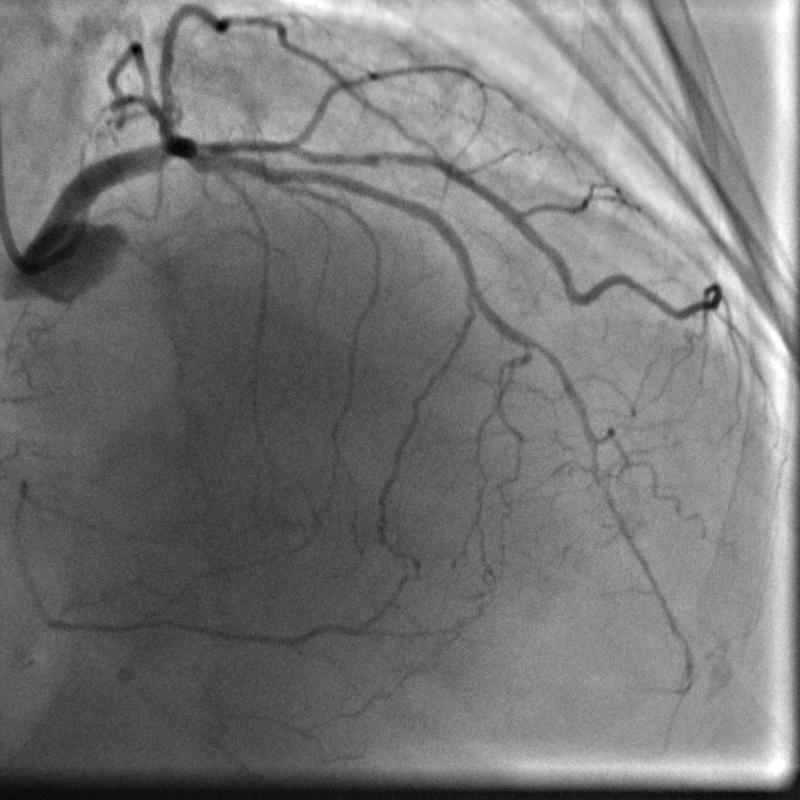Stenosis: (334, 143, 433, 174)
